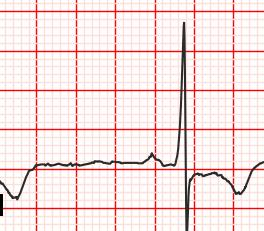T inversion: (204, 163, 258, 199)
